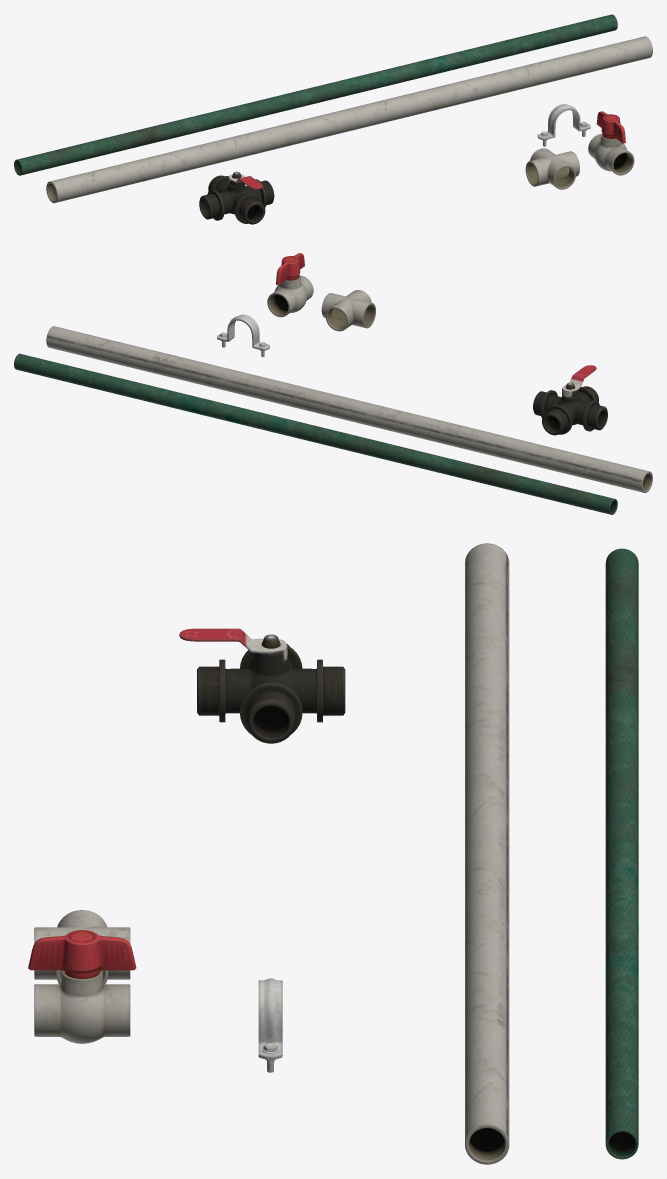
The model's file is modular_pipes_plastic_01_1k.gltf.
3 renders of one model, top to bottom at view 1: azimuth 30°, elevation 25°; view 2: azimuth 150°, elevation 25°; view 3: azimuth 270°, elevation 25°, orthographic. The views are drawn at different scales.
Visible parts, largest first — view 1: straight_pvc_pipe_01, garden_pipe, garden_pipe_connector_01, pvc_ball_valve, pvc_connector_01, wall_clamp_01; view 2: straight_pvc_pipe_01, garden_pipe, garden_pipe_connector_01, pvc_ball_valve, pvc_connector_01, wall_clamp_01; view 3: straight_pvc_pipe_01, garden_pipe, garden_pipe_connector_01, pvc_ball_valve, pvc_connector_01, wall_clamp_01.
Part boxes in pixels (bbox=[...]): straight_pvc_pipe_01: bbox=[46, 36, 652, 203]; garden_pipe: bbox=[14, 14, 617, 175]; garden_pipe_connector_01: bbox=[199, 171, 274, 224]; pvc_ball_valve: bbox=[588, 111, 634, 175]; pvc_connector_01: bbox=[525, 148, 579, 189]; wall_clamp_01: bbox=[537, 104, 590, 146]; straight_pvc_pipe_01: bbox=[46, 326, 652, 492]; garden_pipe: bbox=[14, 353, 617, 514]; garden_pipe_connector_01: bbox=[533, 365, 607, 435]; pvc_ball_valve: bbox=[267, 253, 313, 317]; pvc_connector_01: bbox=[321, 290, 375, 331]; wall_clamp_01: bbox=[217, 314, 269, 356]; straight_pvc_pipe_01: bbox=[465, 543, 509, 1164]; garden_pipe: bbox=[605, 548, 638, 1159]; garden_pipe_connector_01: bbox=[179, 628, 345, 743]; pvc_ball_valve: bbox=[28, 930, 136, 1043]; pvc_connector_01: bbox=[34, 910, 130, 984]; wall_clamp_01: bbox=[258, 978, 282, 1072].
Bounding box in the file's own units: 0.8157 × 0.0757 × 0.3618.
1 material, 1 textured.
